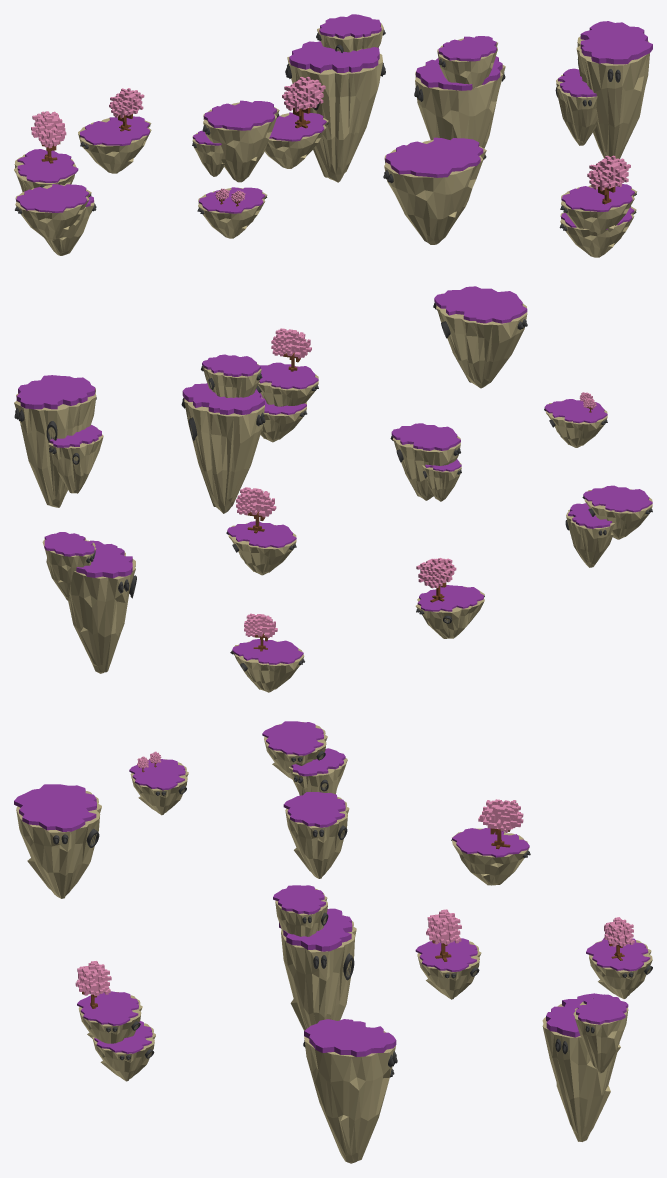
Rendered from Cubbies_May_Map Dem.fbx.
The picture shows the model from 3 angles, top to bottom: view 1: azimuth 30°, elevation 25°; view 2: azimuth 150°, elevation 25°; view 3: azimuth 270°, elevation 25°; orthographic projection. The views are drawn at different scales.
Parts seen in each view (by area): view 1: Cylinder.026_Cylinder.015, Cylinder.026_Cylinder.014, Cylinder.026_Cylinder.002, Cylinder.026_Cylinder.010, Cylinder.026_Cylinder.006, Cylinder.026_Cylinder.007, Cylinder.026_Cylinder.017, Cylinder.026_Cylinder.003, Cylinder.026_Cylinder.004, Cylinder.026_Cylinder.005, Cylinder.026_Cylinder.001, Cylinder.026_Cylinder.013 (+7 smaller); view 2: Cylinder.026_Cylinder.014, Cylinder.026_Cylinder.015, Cylinder.026_Cylinder.010, Cylinder.026_Cylinder.002, Cylinder.026_Cylinder.006, Cylinder.026_Cylinder.017, Cylinder.026_Cylinder.005, Cylinder.026_Cylinder.013, Cylinder.026_Cylinder.007, Cylinder.026_Cylinder.003, Cylinder.026_Cylinder.004, Cylinder.026_Cylinder.001 (+7 smaller); view 3: Cylinder.026_Cylinder.014, Cylinder.026_Cylinder.015, Cylinder.026_Cylinder.002, Cylinder.026_Cylinder.010, Cylinder.026_Cylinder.006, Cylinder.026_Cylinder.013, Cylinder.026_Cylinder.005, Cylinder.026_Cylinder.017, Cylinder.026_Cylinder.003, Cylinder.026_Cylinder.007, Cylinder.026_Cylinder.004, Cylinder.026_Cylinder.001 (+6 smaller).
Boxes of the visible parts, <box> form: Cylinder.026_Cylinder.015: <box>285,14,385,182</box>; Cylinder.026_Cylinder.014: <box>555,21,652,158</box>; Cylinder.026_Cylinder.002: <box>383,137,486,244</box>; Cylinder.026_Cylinder.010: <box>414,56,505,148</box>; Cylinder.026_Cylinder.006: <box>202,100,279,182</box>; Cylinder.026_Cylinder.007: <box>15,184,91,240</box>; Cylinder.026_Cylinder.017: <box>78,116,151,173</box>; Cylinder.026_Cylinder.003: <box>560,184,636,234</box>; Cylinder.026_Cylinder.004: <box>437,36,497,89</box>; Cylinder.026_Cylinder.005: <box>264,112,328,168</box>; Cylinder.026_Cylinder.001: <box>197,187,267,238</box>; Cylinder.026_Cylinder.013: <box>14,149,78,191</box>; Cylinder.026_Cylinder.014: <box>14,375,103,507</box>; Cylinder.026_Cylinder.015: <box>42,532,136,673</box>; Cylinder.026_Cylinder.010: <box>181,383,265,513</box>; Cylinder.026_Cylinder.002: <box>433,286,527,388</box>; Cylinder.026_Cylinder.006: <box>390,423,460,500</box>; Cylinder.026_Cylinder.017: <box>230,639,304,692</box>; Cylinder.026_Cylinder.005: <box>226,521,296,575</box>; Cylinder.026_Cylinder.013: <box>415,585,484,638</box>; Cylinder.026_Cylinder.007: <box>582,485,652,539</box>; Cylinder.026_Cylinder.003: <box>256,362,318,406</box>; Cylinder.026_Cylinder.004: <box>201,354,262,397</box>; Cylinder.026_Cylinder.001: <box>544,399,607,447</box>; Cylinder.026_Cylinder.014: <box>303,1019,397,1163</box>; Cylinder.026_Cylinder.015: <box>542,993,628,1141</box>; Cylinder.026_Cylinder.002: <box>14,784,101,898</box>; Cylinder.026_Cylinder.010: <box>279,908,356,1030</box>; Cylinder.026_Cylinder.006: <box>283,792,349,878</box>; Cylinder.026_Cylinder.013: <box>451,828,530,885</box>; Cylinder.026_Cylinder.005: <box>415,938,481,999</box>; Cylinder.026_Cylinder.017: <box>586,938,652,998</box>; Cylinder.026_Cylinder.003: <box>77,991,142,1043</box>; Cylinder.026_Cylinder.007: <box>262,721,327,779</box>; Cylinder.026_Cylinder.004: <box>273,885,328,936</box>; Cylinder.026_Cylinder.001: <box>129,759,188,815</box>.
Size of the model in its own units: 41.62 by 34.41 by 15.31.
